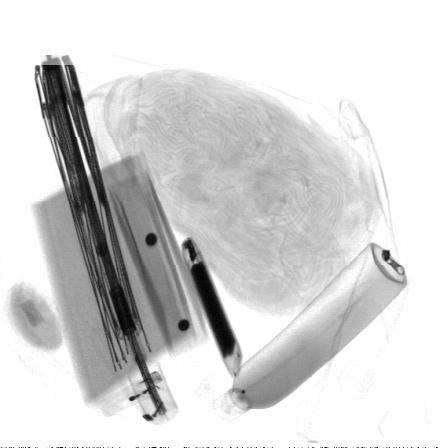Lighter: (98, 369, 165, 419)
Powerbank: (180, 236, 243, 377)
Sprayer: (212, 242, 408, 424)
